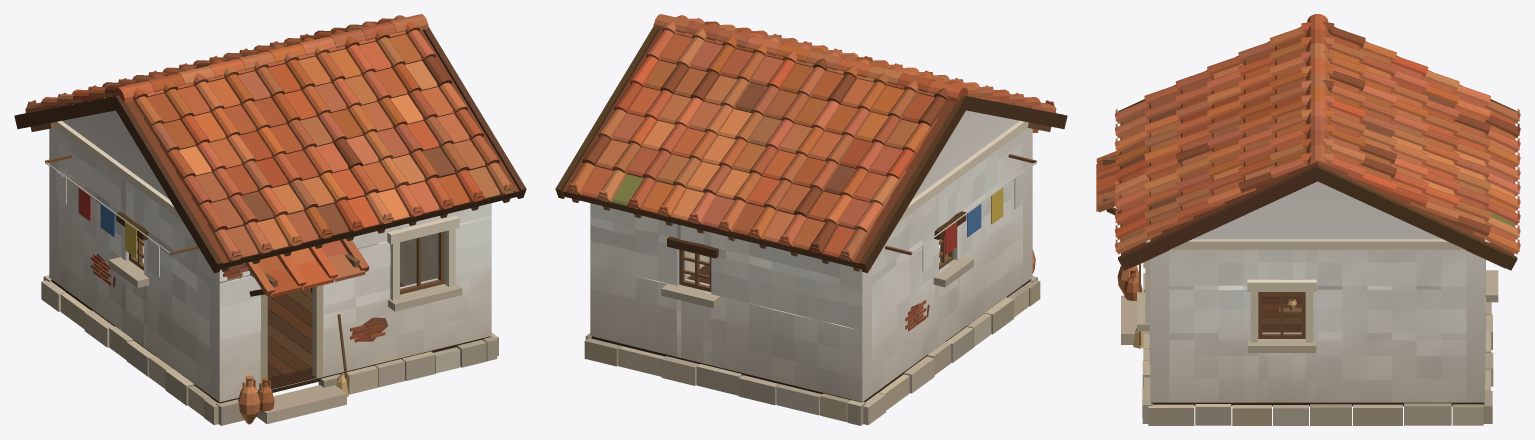
The model's file is pleb_1_1.glb.
3 renders of one model, left to right at view 1: azimuth 30°, elevation 25°; view 2: azimuth 150°, elevation 25°; view 3: azimuth 270°, elevation 25°, orthographic.
Visible parts, largest first — view 1: House, Walls, Rooms; view 2: House, Walls; view 3: House, Walls, Rooms.
Boxes of the visible parts, x1,y1,x2,y2 form: House: (14,14,526,425); Walls: (49,110,491,402); Rooms: (142,233,436,379); House: (555,14,1067,425); Walls: (590,110,1032,402); House: (1096,14,1520,425); Walls: (1149,181,1486,402); Rooms: (1262,292,1301,332).
Bounding box in the file's own units: 4.2 × 3.48 × 4.94.
5 materials, 5 textured.
